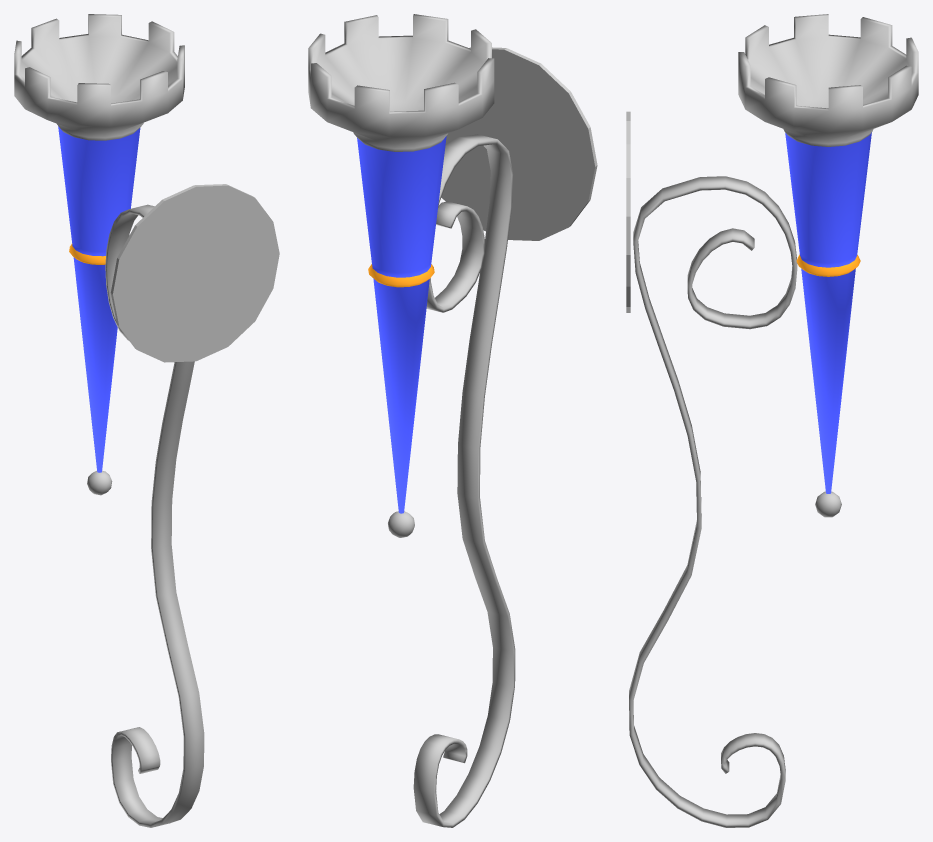
Rendered from Wall-Torch-003.fbx.
The picture shows the model from 3 angles, left to right: view 1: azimuth 30°, elevation 25°; view 2: azimuth 150°, elevation 25°; view 3: azimuth 270°, elevation 25°; orthographic projection. The views are drawn at different scales.
Visible parts, largest first — view 1: Torch, Wall-Mount, Arm-Mesh; view 2: Torch, Arm-Mesh, Wall-Mount, Pommel; view 3: Torch, Arm-Mesh, Wall-Mount, Pommel.
Part boxes in pixels (box(x1,y1,x2,y2)): Torch: box(14, 14, 184, 472); Wall-Mount: box(110, 184, 279, 362); Arm-Mesh: box(105, 204, 204, 827); Torch: box(308, 14, 494, 513); Arm-Mesh: box(413, 134, 515, 827); Wall-Mount: box(441, 47, 597, 240); Pommel: box(388, 511, 414, 537); Torch: box(738, 14, 918, 493); Arm-Mesh: box(629, 176, 797, 827); Wall-Mount: box(626, 111, 630, 312); Pommel: box(815, 491, 841, 517).
Size of the model in its own units: 9 by 38.01 by 13.06.
